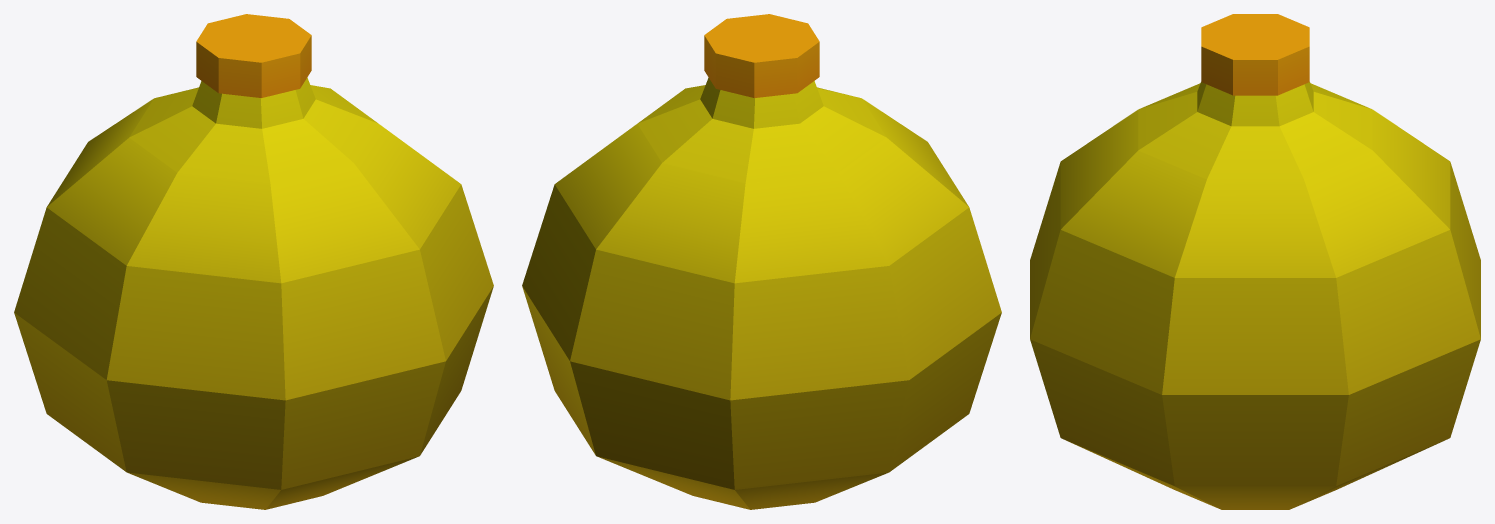
File: ball yellow.fbx
3 renders of one model, left to right at view 1: azimuth 30°, elevation 25°; view 2: azimuth 150°, elevation 25°; view 3: azimuth 270°, elevation 25°, orthographic.
Visible parts, largest first — view 1: ball yellow; view 2: ball yellow; view 3: ball yellow.
Part boxes in pixels (x1,y1,x2,y2): ball yellow: (14, 14, 493, 509); ball yellow: (522, 14, 1001, 509); ball yellow: (1030, 14, 1480, 509).
Bounding box in the file's own units: 26.53 × 29.42 × 26.53.
